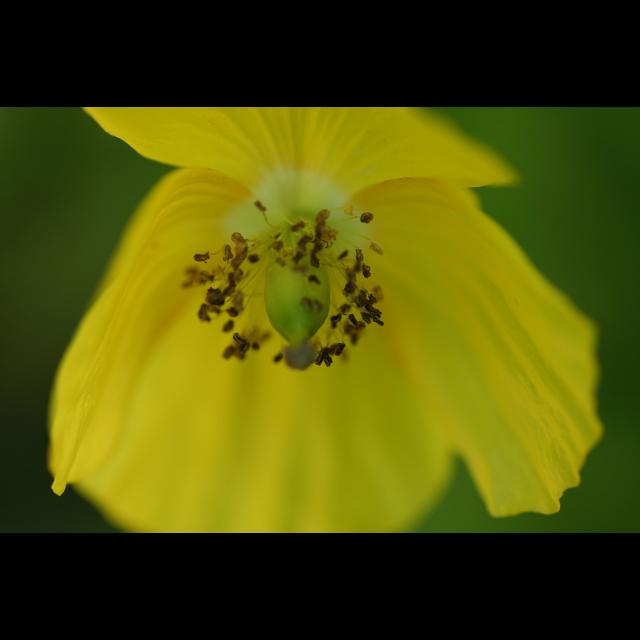Flower: (32, 107, 588, 531)
